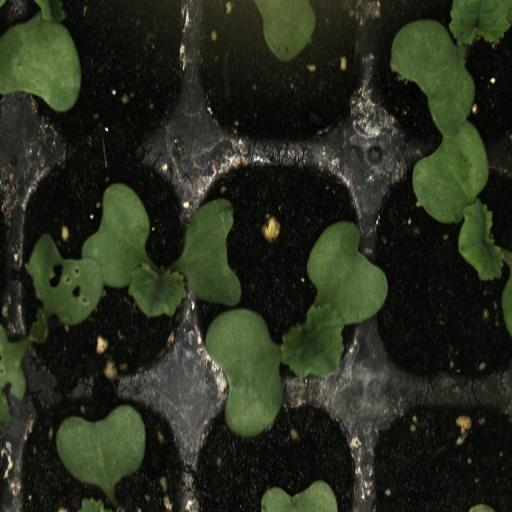Folha: (0, 0, 81, 113), (56, 404, 146, 497), (261, 480, 338, 512)
Germinacao: (7, 149, 191, 390), (195, 138, 368, 382), (369, 151, 512, 391), (372, 0, 512, 152)
